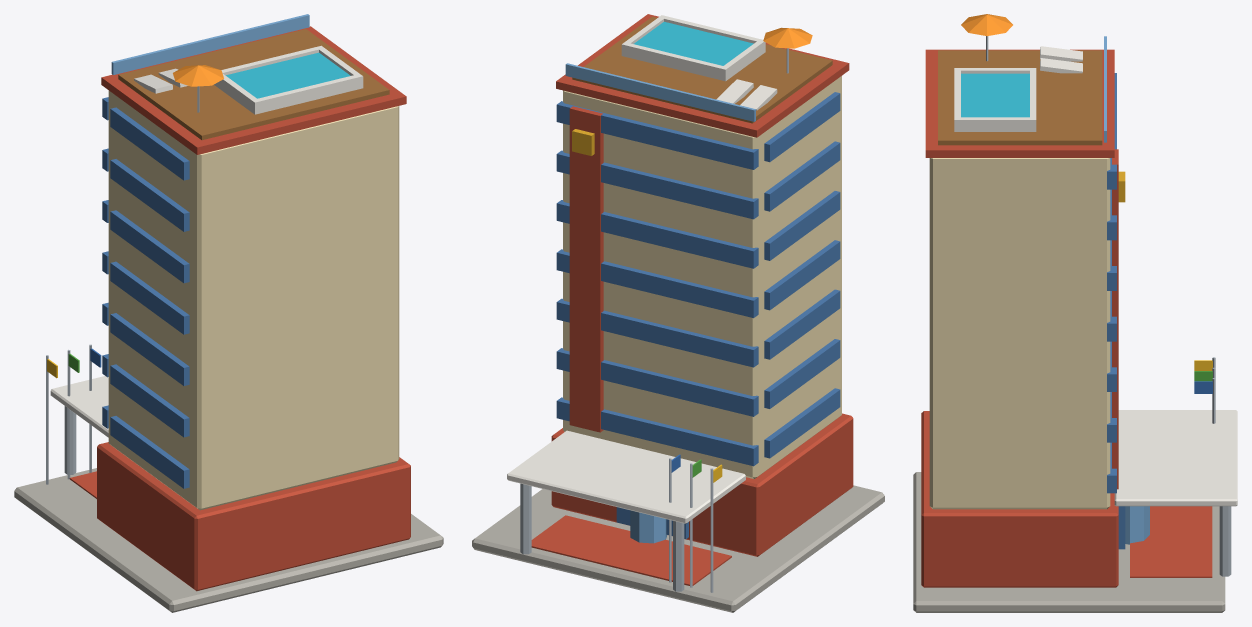
File: comercial-hotel.glb
The picture shows the model from 3 angles, left to right: view 1: azimuth 30°, elevation 25°; view 2: azimuth 150°, elevation 25°; view 3: azimuth 270°, elevation 25°; orthographic projection. The views are drawn at different scales.
Visible parts, largest first — view 1: corpo; view 2: corpo; view 3: corpo.
Boxes of the visible parts, x1,y1,x2,y2 form: corpo: [14, 14, 443, 612]; corpo: [472, 14, 884, 612]; corpo: [913, 14, 1237, 612].
Bounding box in the file's own units: 1.9 × 3.35 × 1.98.
